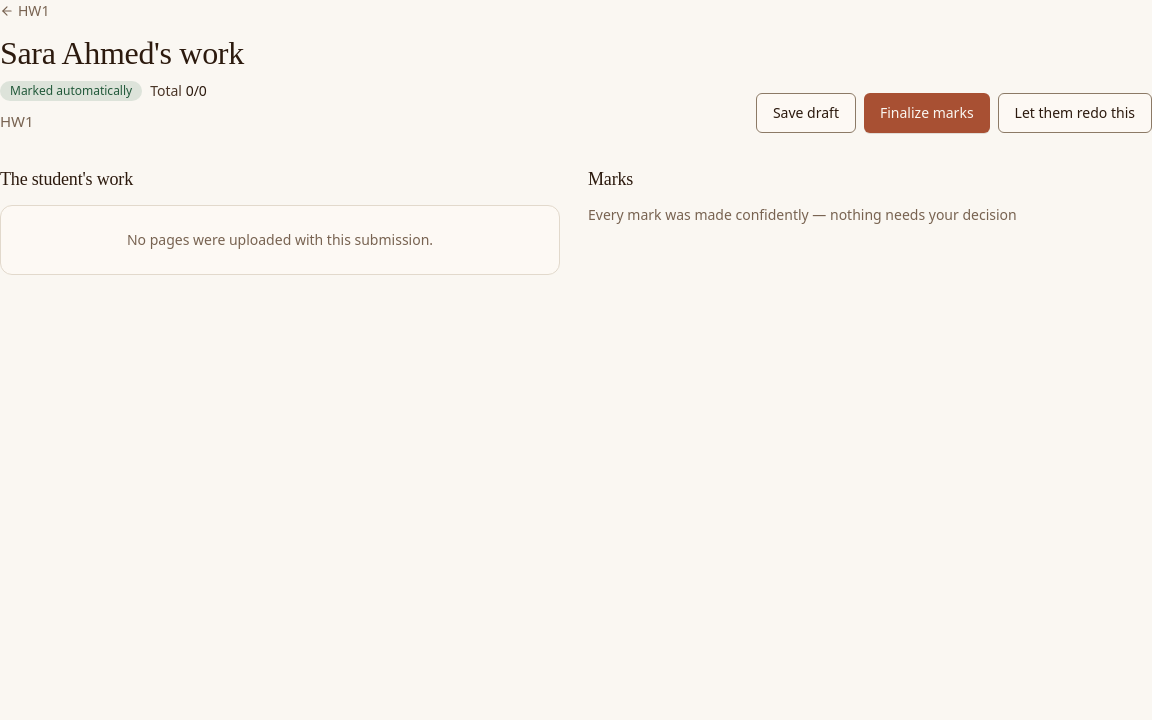
Test case: a refusal from the server is shown and the dialog stays open
Click the button "Let them redo this".
click(1075, 113)  # box [998, 93, 1151, 133]
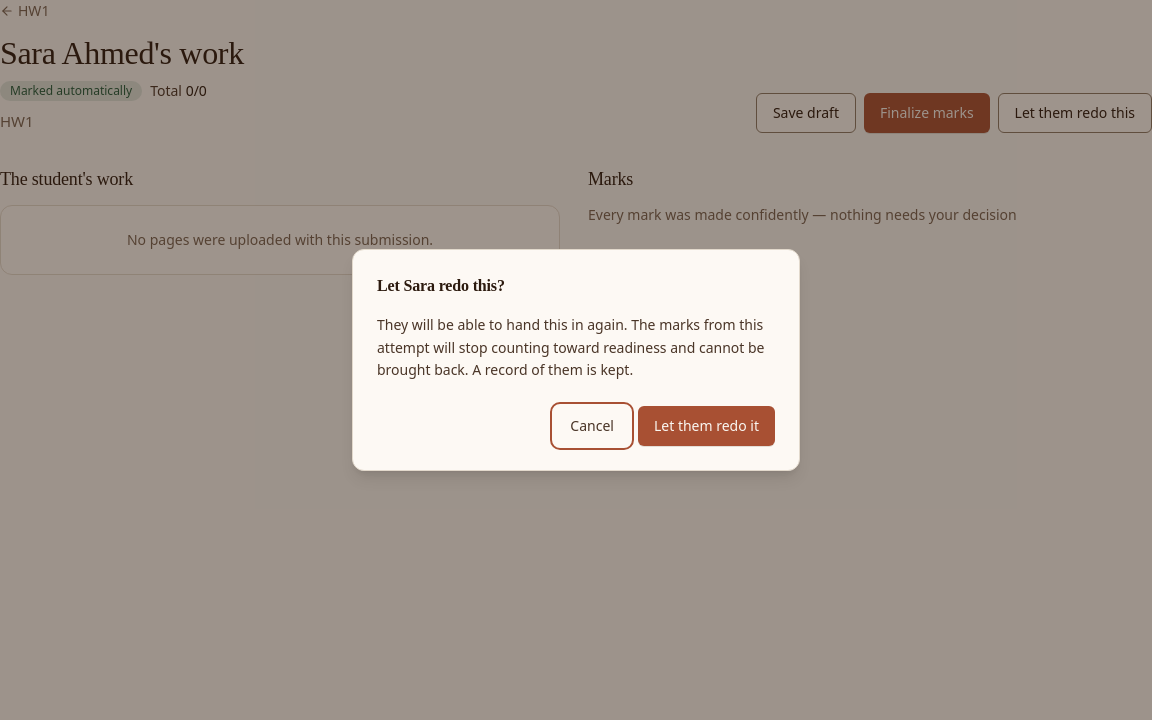
Click the button "Let them redo it".
click(706, 426)  # box [638, 406, 775, 446]
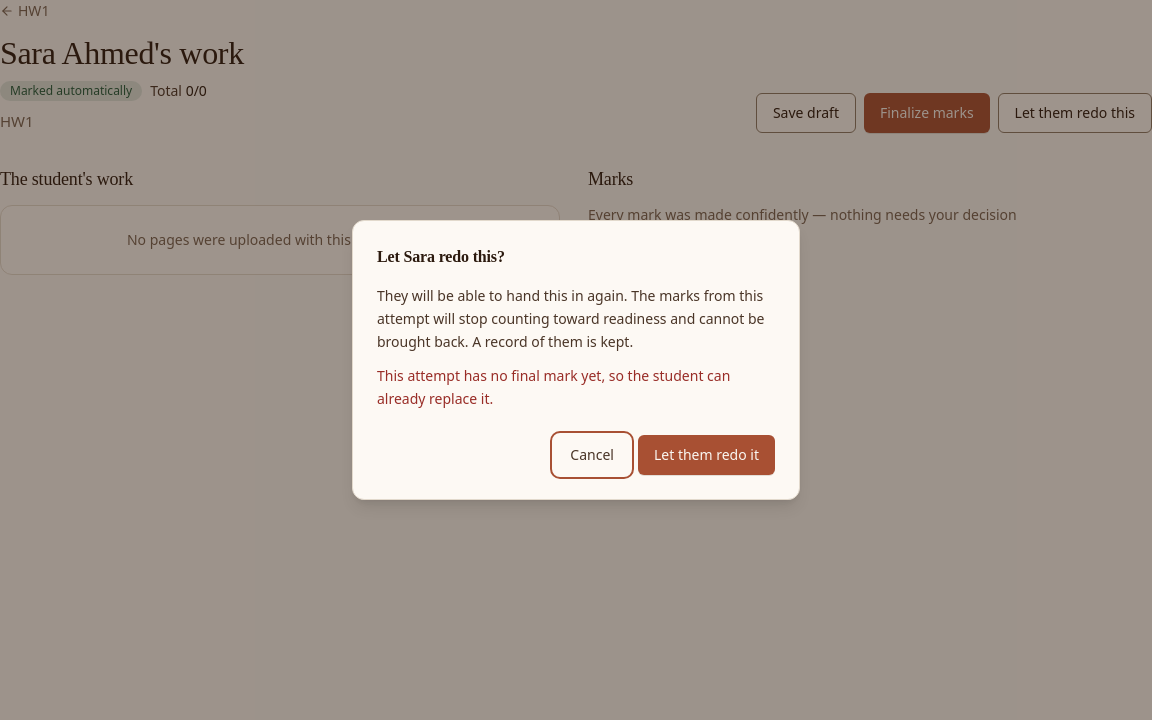
Check: the dialog is shown, box [352, 220, 800, 500]
Check: the message reads "This attempt has no final mark yet, so the student can already replace it.", box [377, 366, 730, 408]
